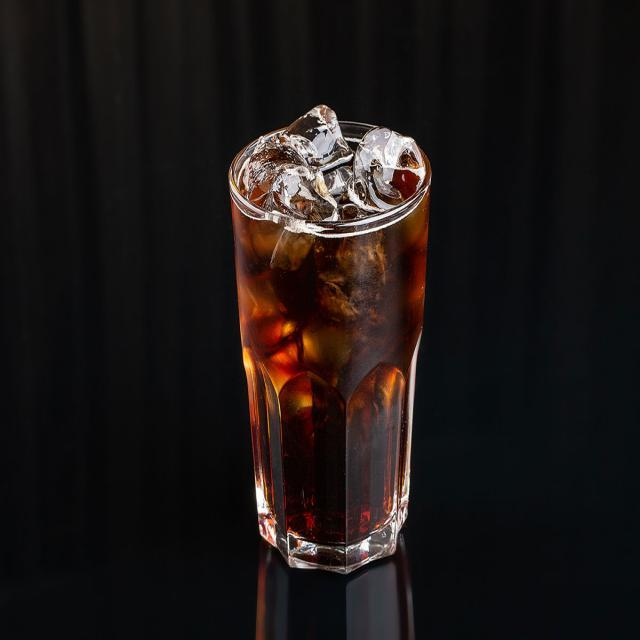Coke: (229, 101, 432, 575)
